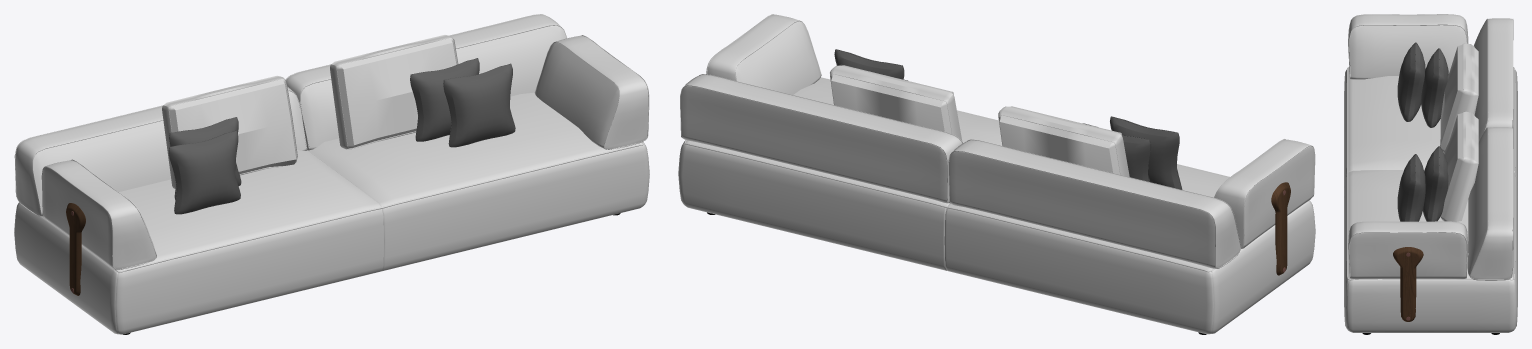
The model's file is SBH_ABENA.glb.
The picture shows the model from 3 angles, left to right: view 1: azimuth 30°, elevation 25°; view 2: azimuth 150°, elevation 25°; view 3: azimuth 270°, elevation 25°; orthographic projection. The views are drawn at different scales.
Parts seen in each view (by area): view 1: ABENA; view 2: ABENA; view 3: ABENA.
Boxes of the visible parts, x1,y1,x2,y2 form: ABENA: (14,14,649,334); ABENA: (678,14,1315,334); ABENA: (1344,14,1517,334).
Size of the model in its own units: 3.15 by 0.8804 by 1.04.
5 materials, 1 textured.
